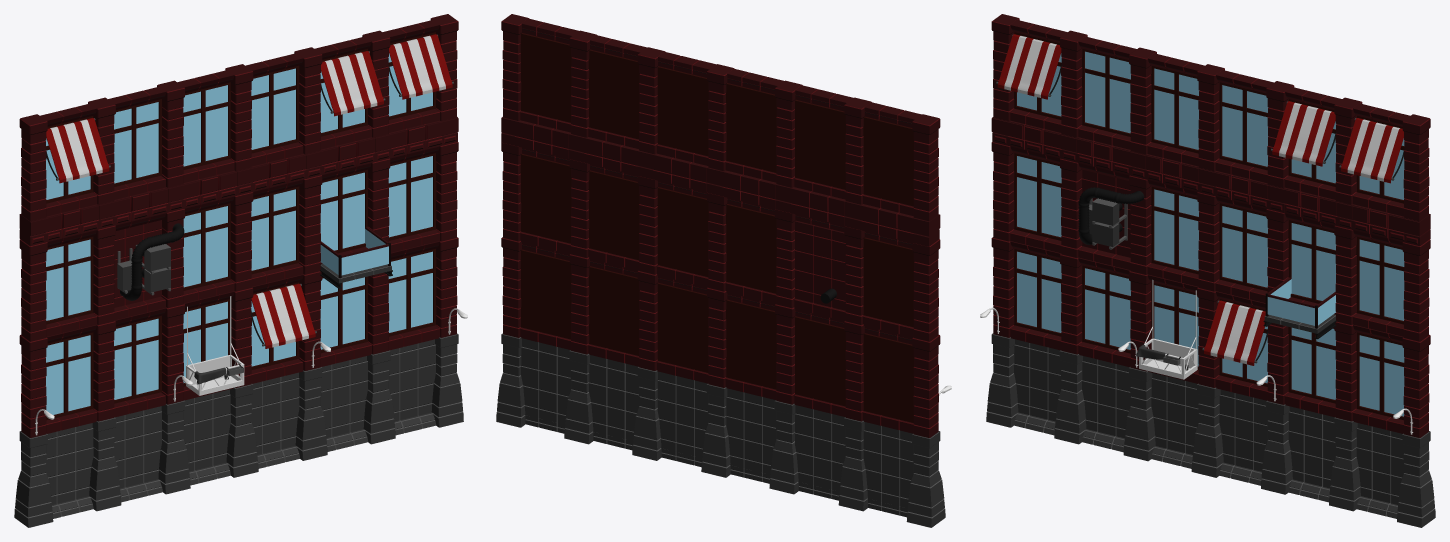
The model's file is Props_Modular_Example.FBX.
3 views of the same model, side by side, from view 1: azimuth 30°, elevation 25°; view 2: azimuth 150°, elevation 25°; view 3: azimuth 330°, elevation 25° (orthographic).
Parts seen in each view (by area): view 1: Box136, Box063, Box083, Box075, Box144, Box041, Box134, Box061, Box073, Box030, Box039, Box056 (+83 smaller); view 2: Box053, Box136, Box063, Box075, Box144, Box083, Box142, Box073, Box051, Box061, Box134, Box126 (+71 smaller); view 3: Box136, Box063, Box144, Box075, Box061, Box134, Box041, Box073, Box083, Box030, Box039, Box078 (+83 smaller).
Boxes of the visible parts, bbox=[...] form: Box136: bbox=[251, 65, 299, 153]; Box063: bbox=[251, 186, 299, 274]; Box083: bbox=[45, 237, 93, 324]; Box075: bbox=[113, 315, 161, 403]; Box144: bbox=[114, 99, 161, 186]; Box041: bbox=[388, 153, 436, 240]; Box134: bbox=[183, 82, 231, 169]; Box061: bbox=[183, 203, 231, 290]; Box073: bbox=[45, 332, 93, 420]; Box030: bbox=[388, 249, 436, 336]; Box039: bbox=[320, 169, 368, 253]; Box056: bbox=[251, 372, 299, 454]; Box053: bbox=[657, 283, 708, 372]; Box136: bbox=[657, 66, 708, 156]; Box063: bbox=[657, 187, 708, 276]; Box075: bbox=[795, 316, 846, 406]; Box144: bbox=[795, 100, 845, 189]; Box083: bbox=[863, 237, 914, 327]; Box142: bbox=[863, 116, 914, 206]; Box073: bbox=[863, 333, 914, 422]; Box051: bbox=[726, 300, 776, 389]; Box061: bbox=[725, 204, 776, 293]; Box134: bbox=[726, 83, 776, 172]; Box126: bbox=[588, 50, 639, 139]; Box136: bbox=[1219, 82, 1268, 170]; Box063: bbox=[1219, 203, 1268, 291]; Box144: bbox=[1081, 49, 1130, 136]; Box075: bbox=[1081, 265, 1131, 353]; Box061: bbox=[1151, 186, 1199, 274]; Box134: bbox=[1151, 66, 1199, 153]; Box041: bbox=[1356, 236, 1404, 324]; Box073: bbox=[1013, 249, 1061, 336]; Box083: bbox=[1013, 153, 1061, 240]; Box030: bbox=[1356, 332, 1404, 420]; Box039: bbox=[1288, 220, 1336, 303]; Box078: bbox=[1082, 356, 1130, 438].
Size of the model in its own units: 2367 by 2077 by 318.
